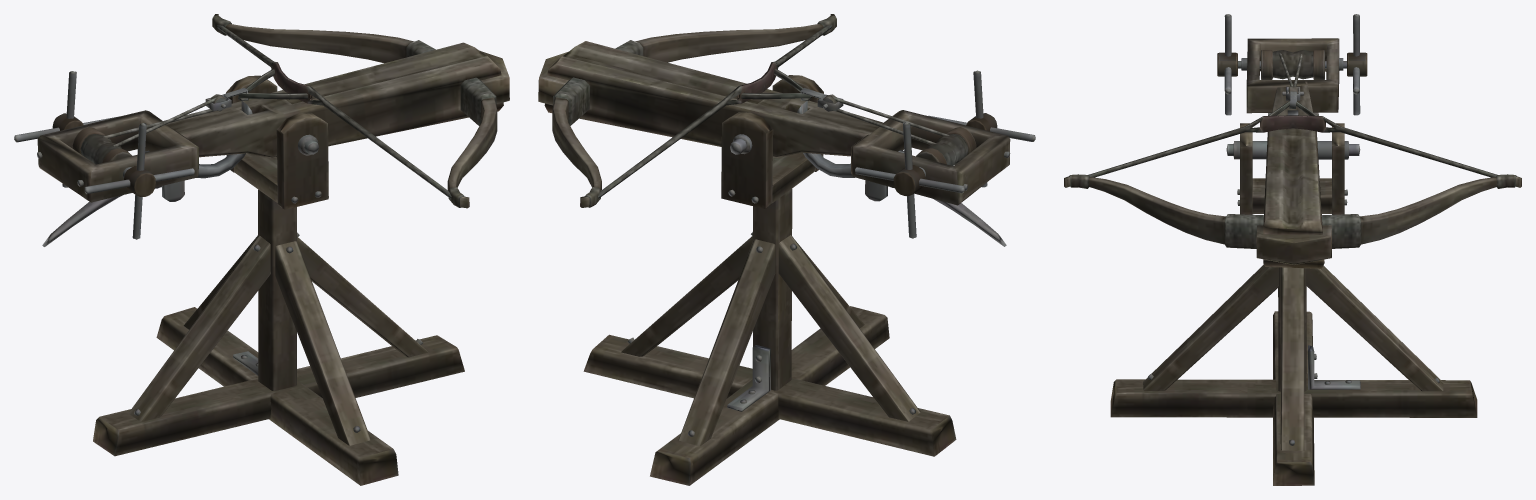
The model's file is DefenseFacilityMedieval_Base_15b3d6.glb.
3 views of the same model, side by side, from view 1: azimuth 30°, elevation 25°; view 2: azimuth 150°, elevation 25°; view 3: azimuth 270°, elevation 25° (orthographic). The views are drawn at different scales.
Bounding box in the file's own units: 1.29 × 0.9444 × 1.22.
Materials: 1 (1 with a texture image).
